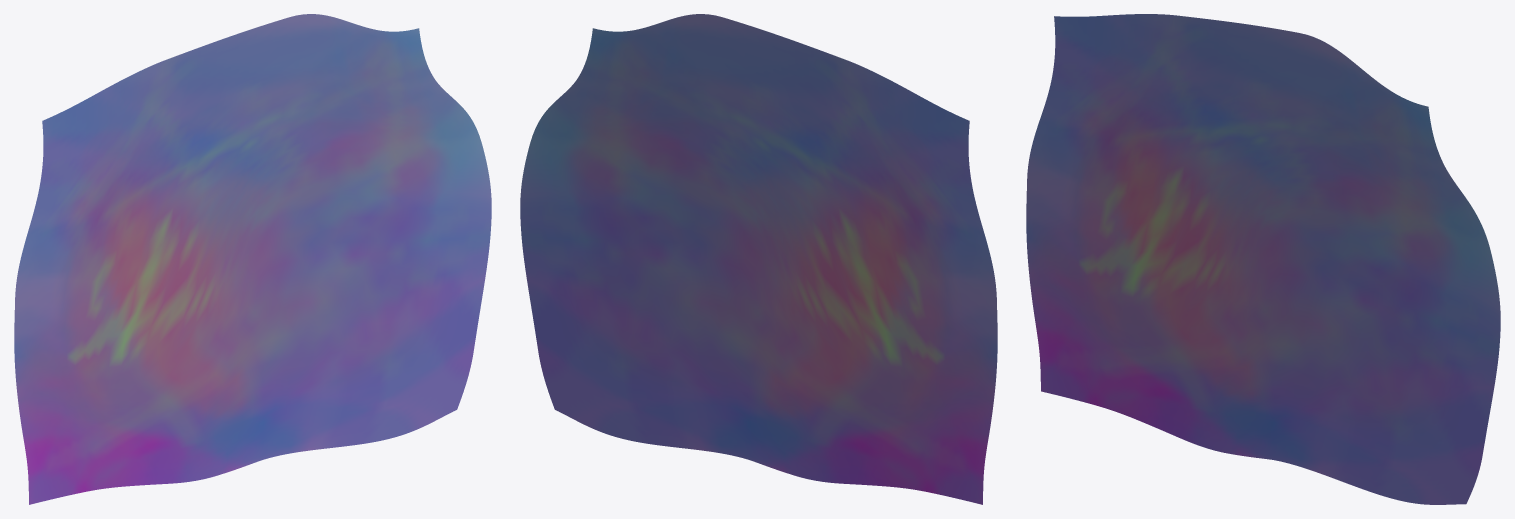
File: splotch.glb
The picture shows the model from 3 angles, left to right: view 1: azimuth 30°, elevation 25°; view 2: azimuth 150°, elevation 25°; view 3: azimuth 330°, elevation 25°; orthographic projection.
Visible parts, largest first — view 1: Plane; view 2: Plane; view 3: Plane.
Boxes of the visible parts, x1=… form: Plane: x1=14, y1=14, x2=491, y2=504; Plane: x1=520, y1=14, x2=997, y2=504; Plane: x1=1026, y1=14, x2=1500, y2=504.
Bounding box in the file's own units: 1.78 × 1.59 × 0.
